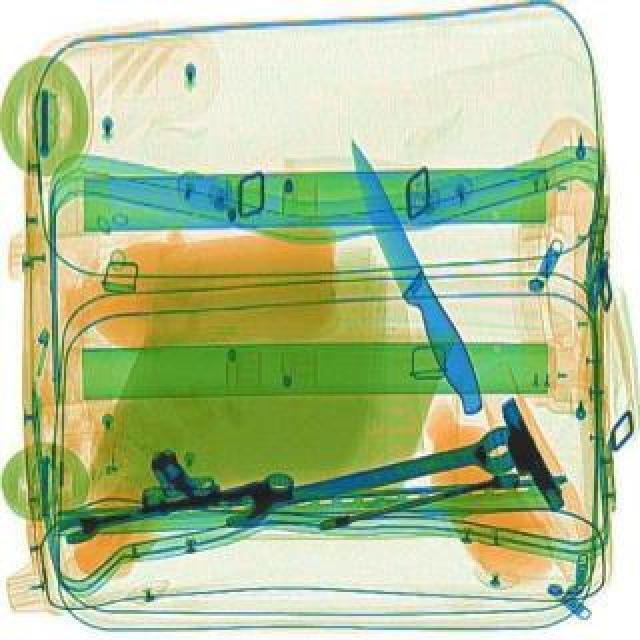gun: (478, 394, 574, 514), (128, 438, 220, 512)
knife: (332, 130, 492, 420)
scissors: (216, 422, 526, 534), (56, 464, 296, 544)
